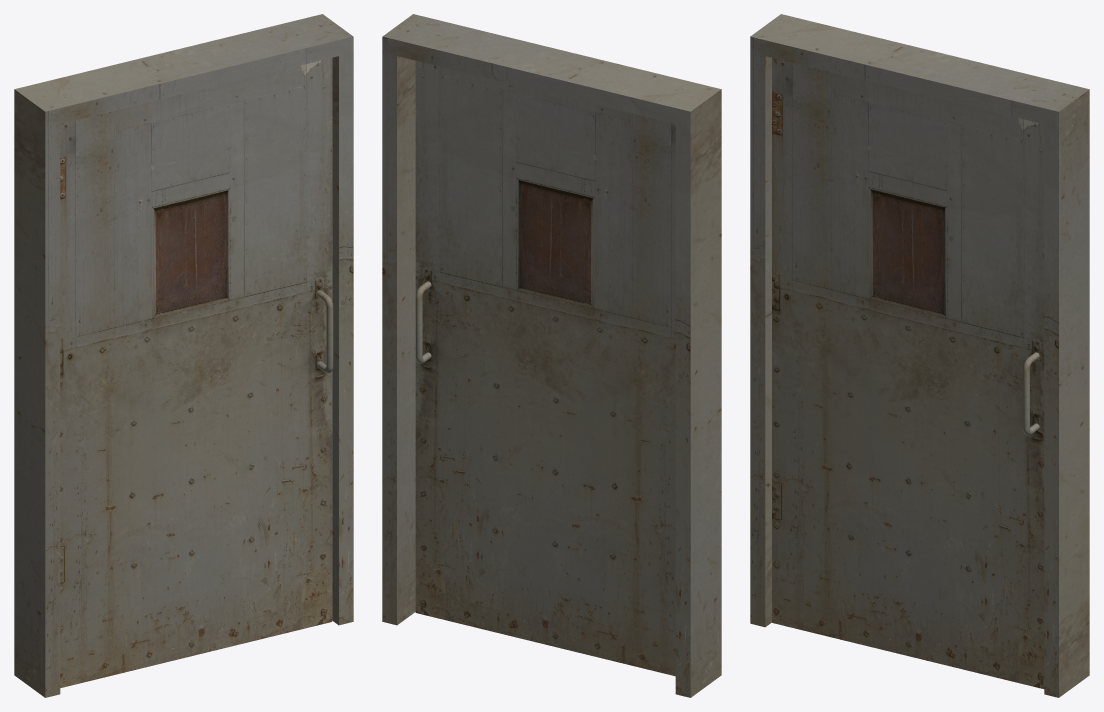
Rendered from Door.FBX.
The picture shows the model from 3 angles, left to right: view 1: azimuth 30°, elevation 25°; view 2: azimuth 150°, elevation 25°; view 3: azimuth 330°, elevation 25°; orthographic projection.
Parts seen in each view (by area): view 1: door, door frame; view 2: door, door frame; view 3: door, door frame.
Part boxes in pixels (box(x1,y1,x2,y2)): door: box(60, 58, 333, 687); door frame: box(14, 14, 353, 697); door: box(415, 61, 675, 676); door frame: box(382, 14, 721, 697); door: box(772, 58, 1044, 688); door frame: box(750, 14, 1089, 697).
Bounding box in the file's own units: 49.67 × 90.29 × 10.32.
Materials: 1 (1 with a texture image).
